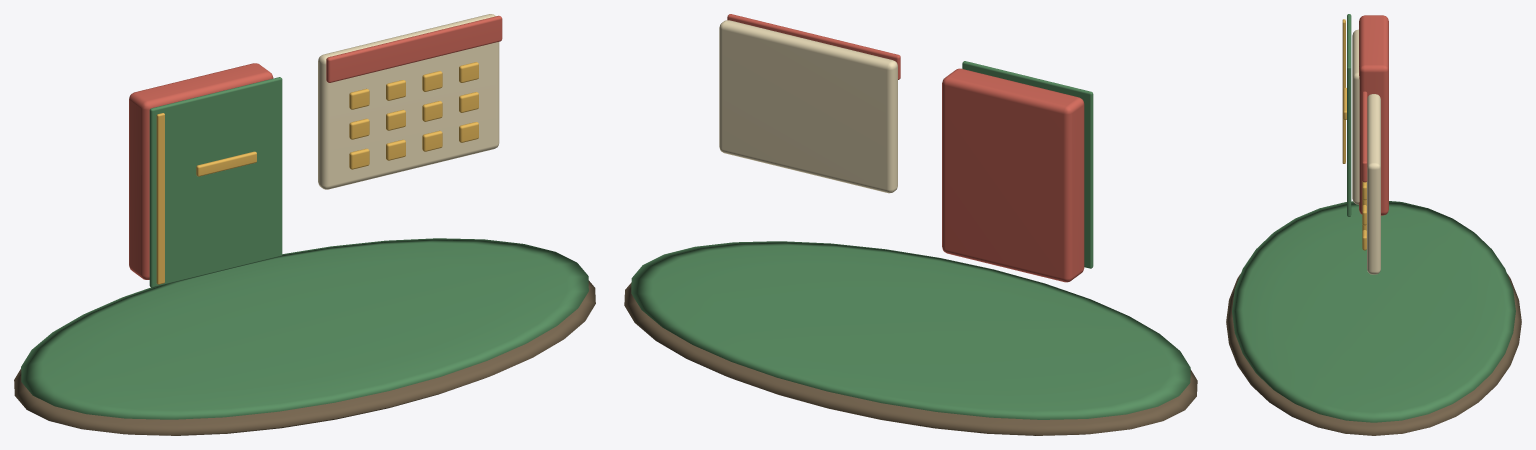
Rendered from study-calendar.glb.
The picture shows the model from 3 angles, left to right: view 1: azimuth 30°, elevation 25°; view 2: azimuth 150°, elevation 25°; view 3: azimuth 270°, elevation 25°; orthographic projection. The views are drawn at different scales.
Parts seen in each view (by area): view 1: study-calendar_surface_01, study-calendar_surface_03, study-calendar_surface_02, study-calendar_surface_00, study-calendar_surface_04; view 2: study-calendar_surface_01, study-calendar_surface_02, study-calendar_surface_03, study-calendar_surface_00; view 3: study-calendar_surface_01, study-calendar_surface_00, study-calendar_surface_02, study-calendar_surface_03, study-calendar_surface_04.
Part boxes in pixels (x1,y1,x2,y2): study-calendar_surface_01: (21,77,588,419); study-calendar_surface_03: (318,14,499,189); study-calendar_surface_02: (129,15,502,279); study-calendar_surface_00: (14,280,595,435); study-calendar_surface_04: (156,62,478,284); study-calendar_surface_01: (631,61,1190,419); study-calendar_surface_02: (727,14,1084,282); study-calendar_surface_03: (719,20,897,193); study-calendar_surface_00: (624,282,1197,435); study-calendar_surface_01: (1232,14,1515,422); study-calendar_surface_00: (1226,274,1521,435); study-calendar_surface_02: (1359,15,1388,215); study-calendar_surface_03: (1352,29,1380,274); study-calendar_surface_04: (1342,19,1366,250).
Bounding box in the file's own units: 4.56 × 2.36 × 2.5.
